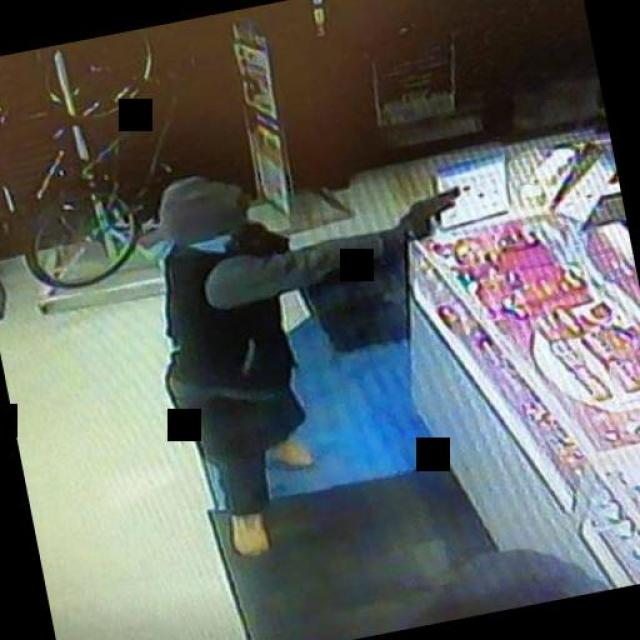gun: (395, 177, 474, 245)
